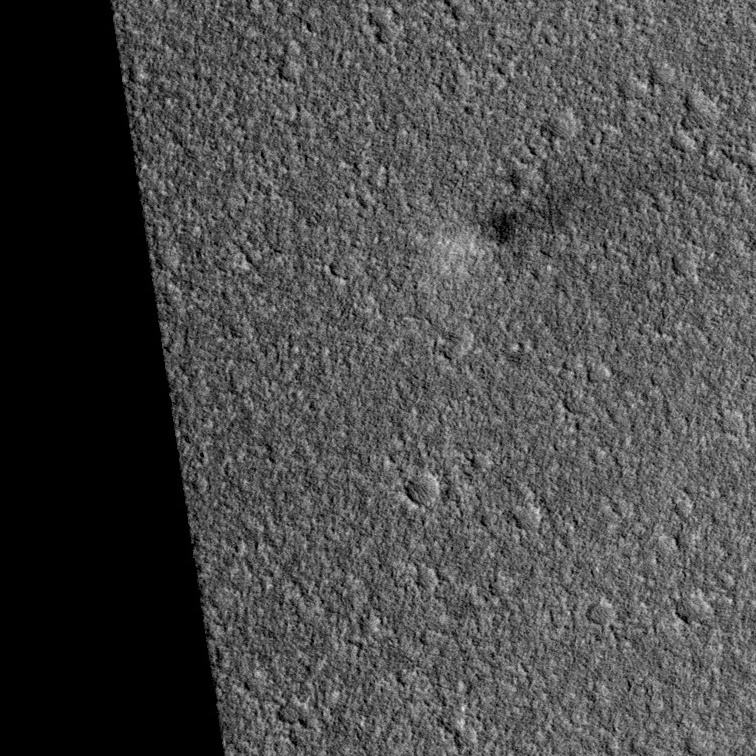dust_devil: (428, 159, 703, 284)
